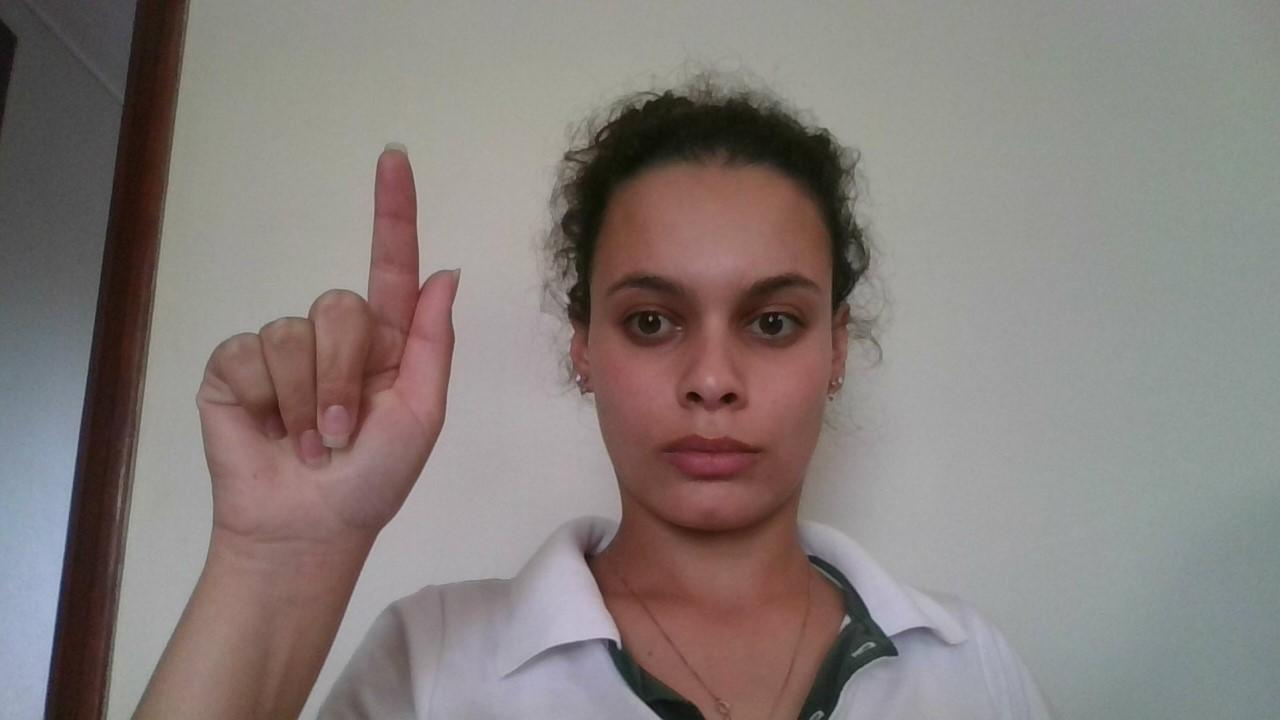G: (198, 146, 464, 556)
